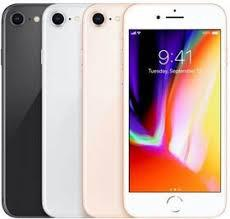Smartphone: (131, 3, 224, 216), (87, 4, 126, 219), (6, 6, 44, 218), (48, 4, 83, 219)
